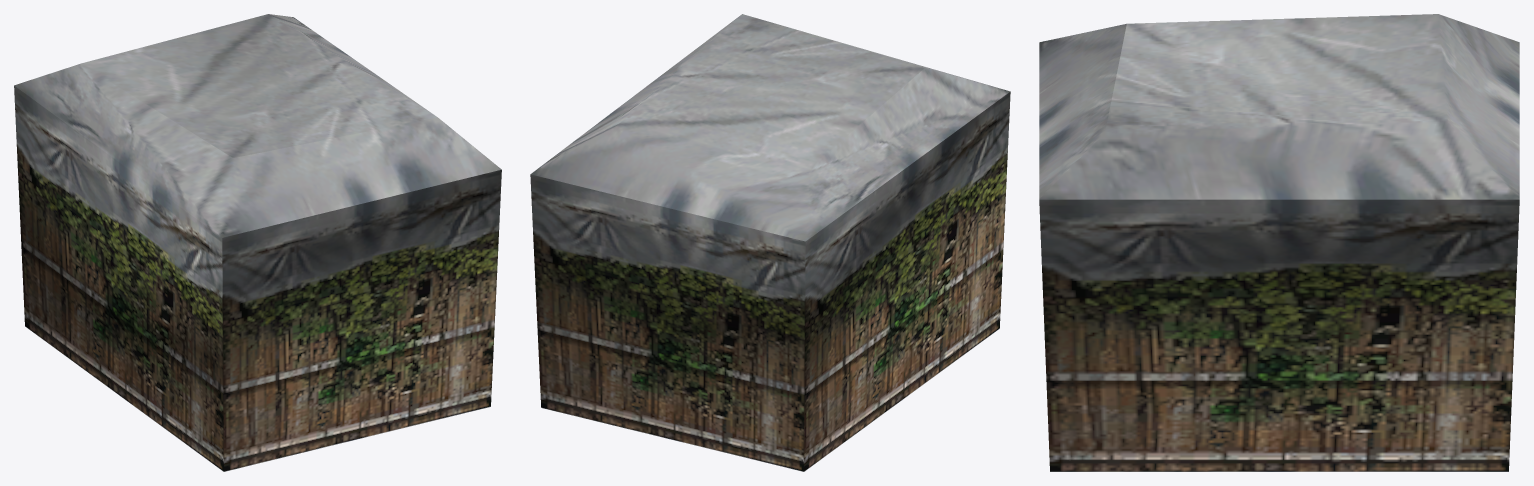
File: wcrate5.glb
3 renders of one model, left to right at view 1: azimuth 30°, elevation 25°; view 2: azimuth 150°, elevation 25°; view 3: azimuth 270°, elevation 25°, orthographic. The views are drawn at different scales.
Visible parts, largest first — view 1: _wcrate5; view 2: _wcrate5; view 3: _wcrate5.
Boxes of the visible parts, x1=… form: _wcrate5: x1=14, y1=14, x2=501, y2=471; _wcrate5: x1=530, y1=14, x2=1010, y2=471; _wcrate5: x1=1039, y1=14, x2=1519, y2=471.
Bounding box in the file's own units: 1.69 × 1.61 × 2.18.
Materials: 1 (1 with a texture image).
